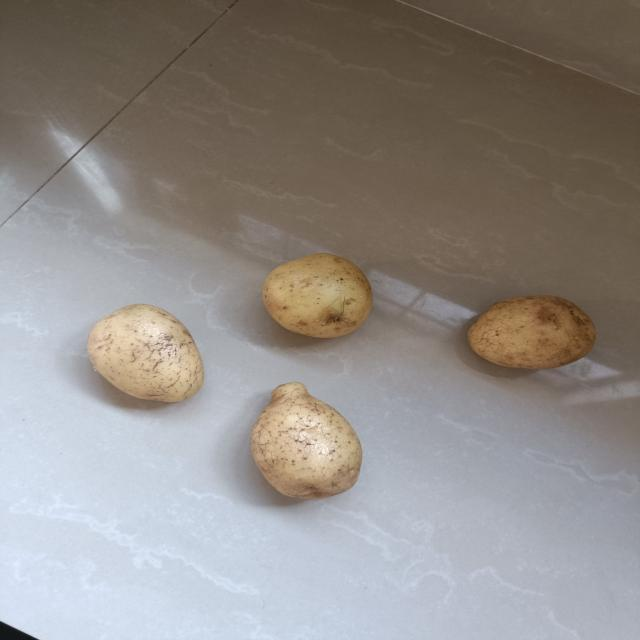potato: (249, 379, 370, 505), (85, 302, 208, 410), (258, 248, 383, 340), (459, 290, 600, 371)
